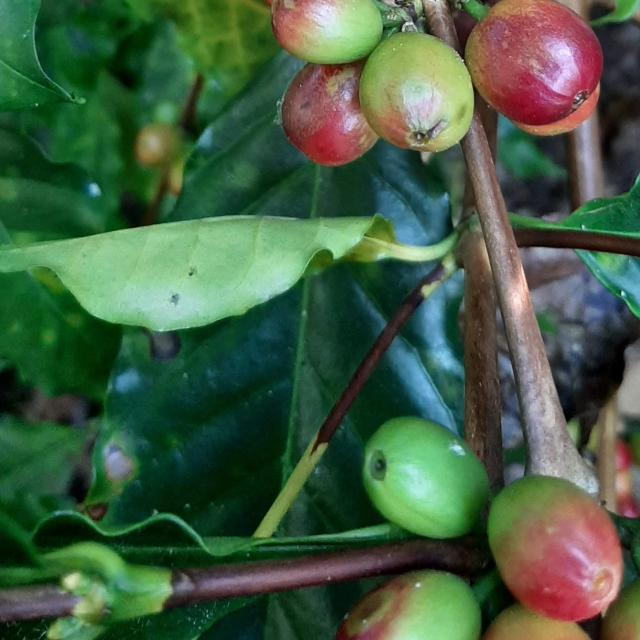green: (363, 417, 490, 540)
red: (280, 59, 378, 166)
yellow: (489, 476, 624, 623), (466, 0, 604, 135), (360, 32, 475, 152), (336, 571, 482, 640), (271, 0, 383, 63), (512, 83, 601, 135)
